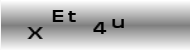4: (91, 21, 107, 35)
E: (51, 9, 64, 23)
X: (27, 25, 45, 41)
t: (67, 10, 77, 23)
u: (110, 17, 125, 29)
